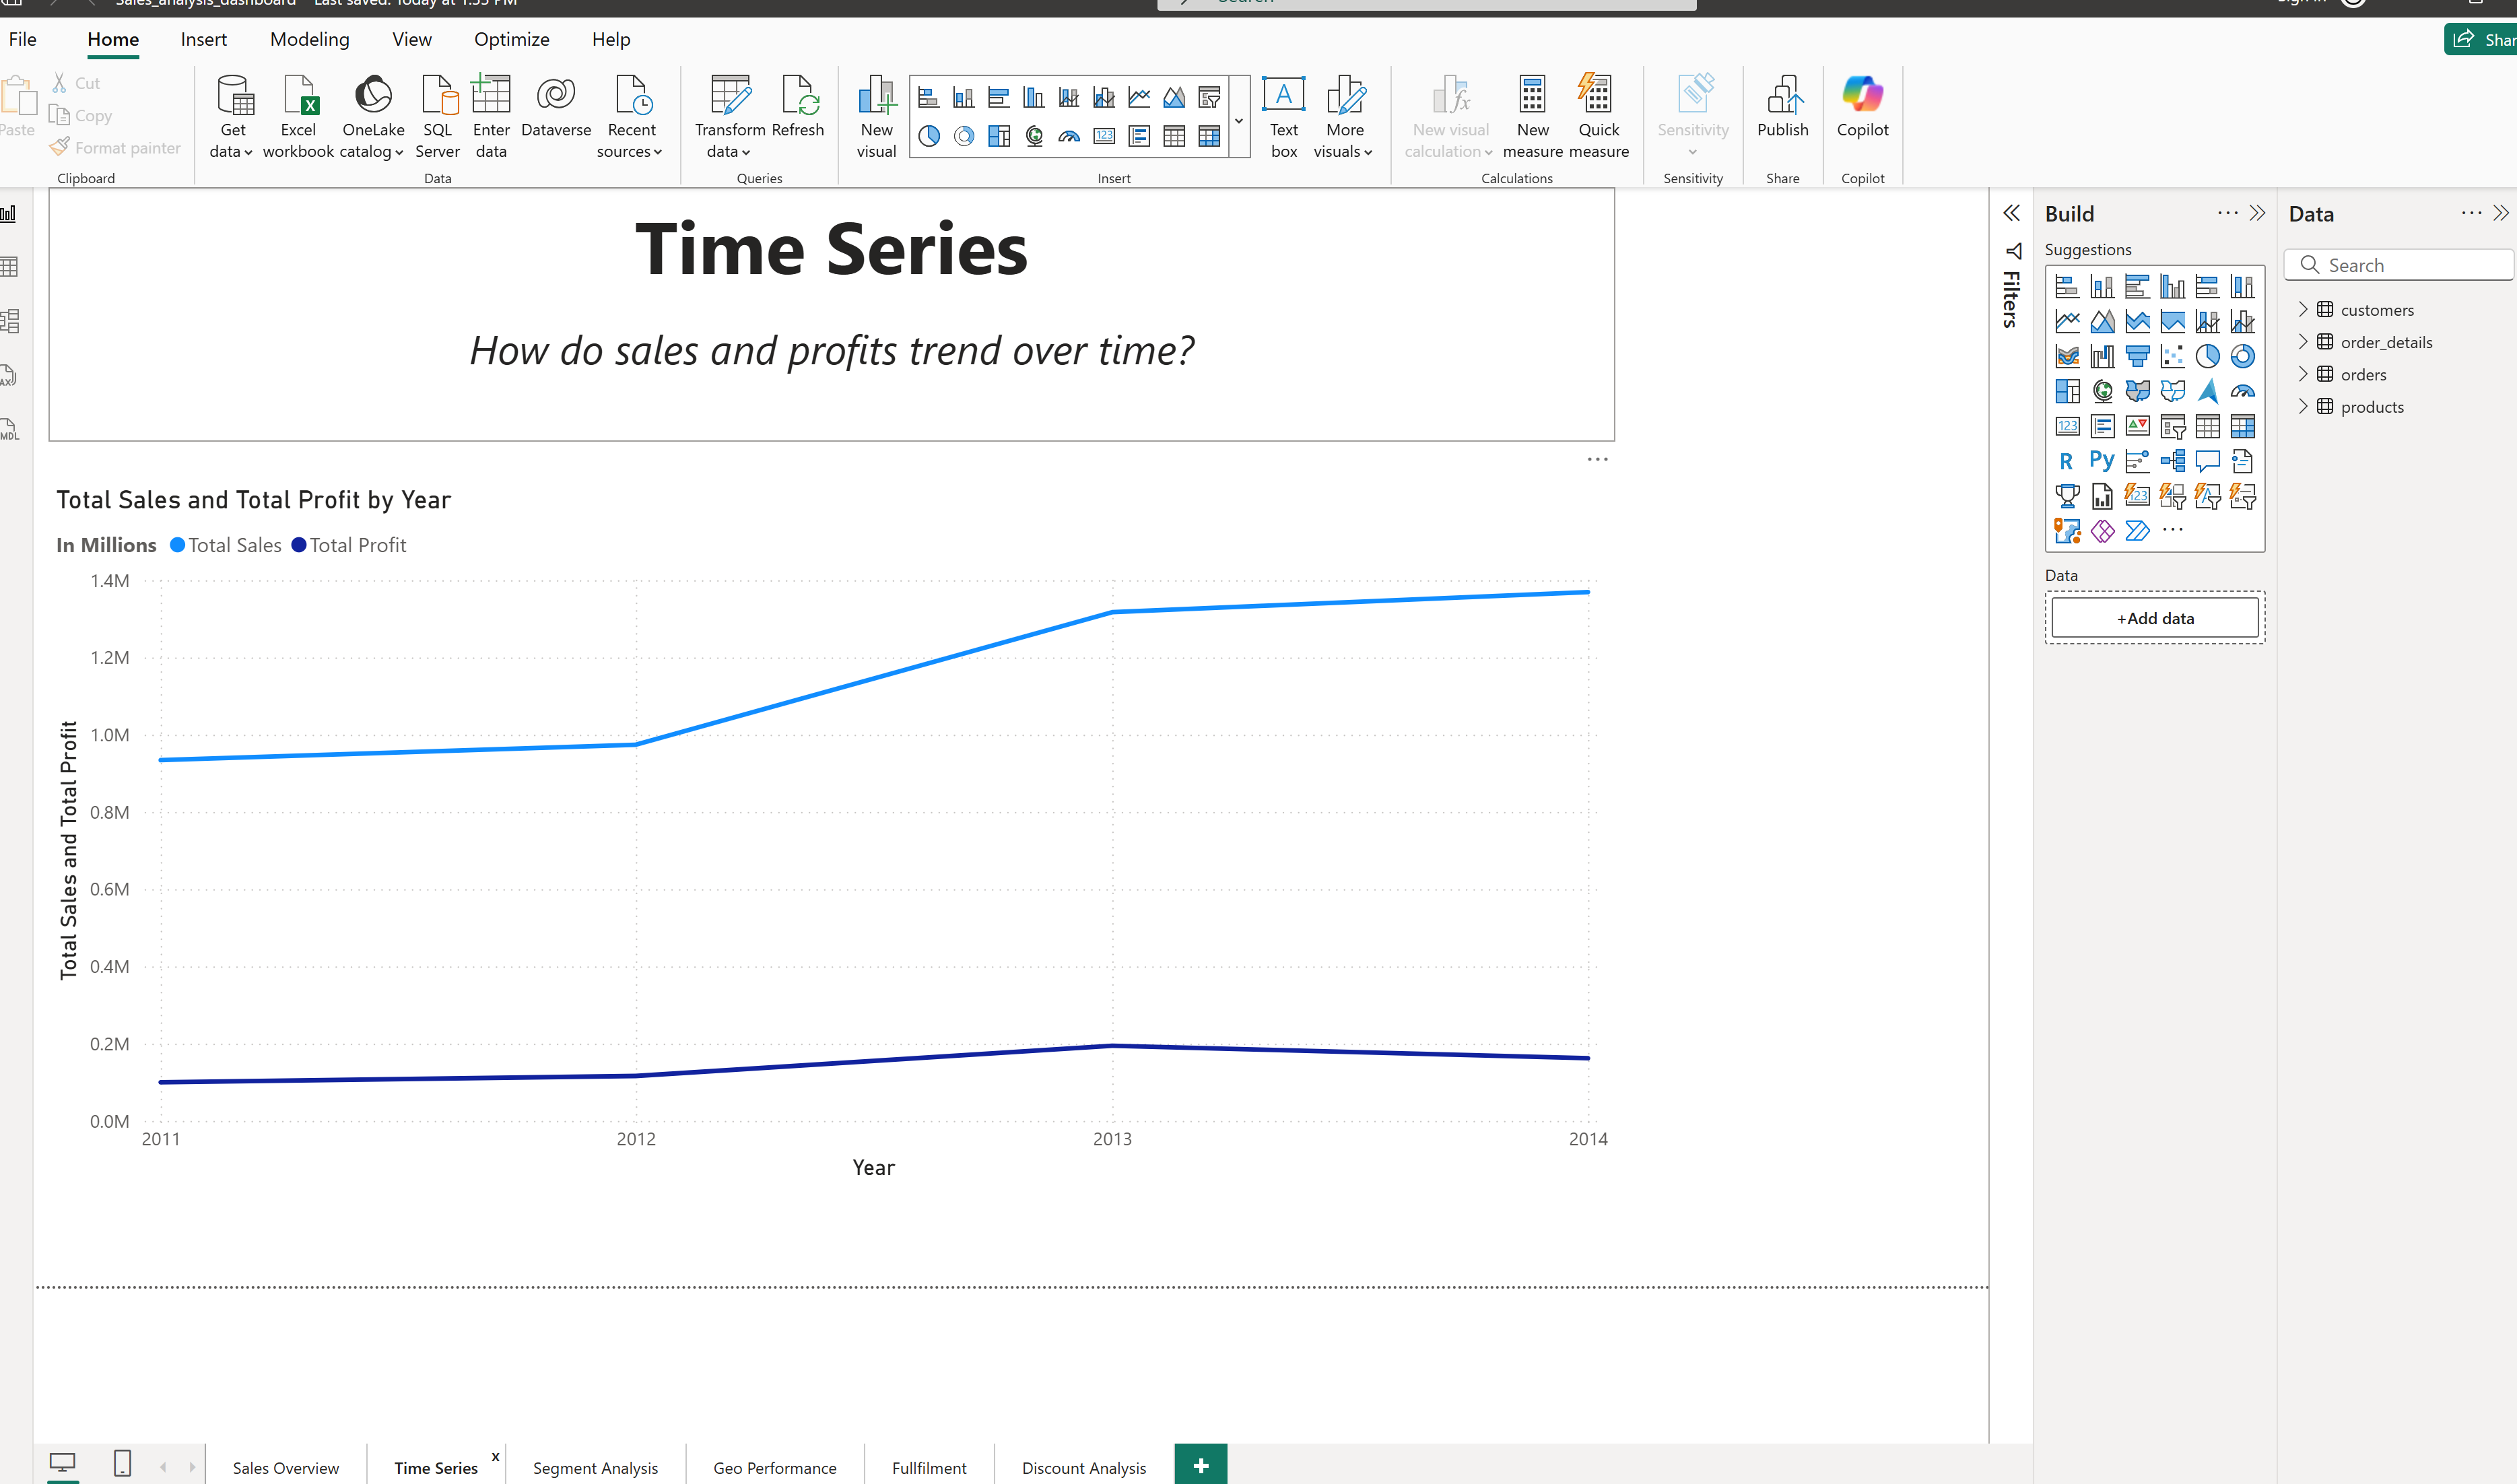

Layout of this report page (visuals, bound fields, positions):
{"tool":"powerbi","page":{"name":"Time Series","canvas":[1280,720],"ordinal":1},"visuals":[{"type":"textbox","box":[10,0,1026,167],"z":0},{"type":"lineChart","fields":{"Category":["orders.order_date.Variation.Date Hierarchy.Year","orders.order_date.Variation.Date Hierarchy.Quarter","orders.order_date.Variation.Date Hierarchy.Month","orders.order_date.Variation.Date Hierarchy.Day"],"Y":["order_details.Total Sales","order_details.Total Profit"]},"box":[10,195,1026,460],"z":1000}]}

Visuals, with their boxes on the page's 1280x720 design canvas (x1, y1, x2, y2). These are canvas units, not pixel positions in the 2517x1484 screenshot, which may show the page scaled, cropped or inside an application window:
textbox: detection(10, 0, 1036, 167)
lineChart - orders.order_date.Variation.Date Hierarchy.Year x orders.order_date.Variation.Date Hierarchy.Quarter: detection(10, 195, 1036, 655)
